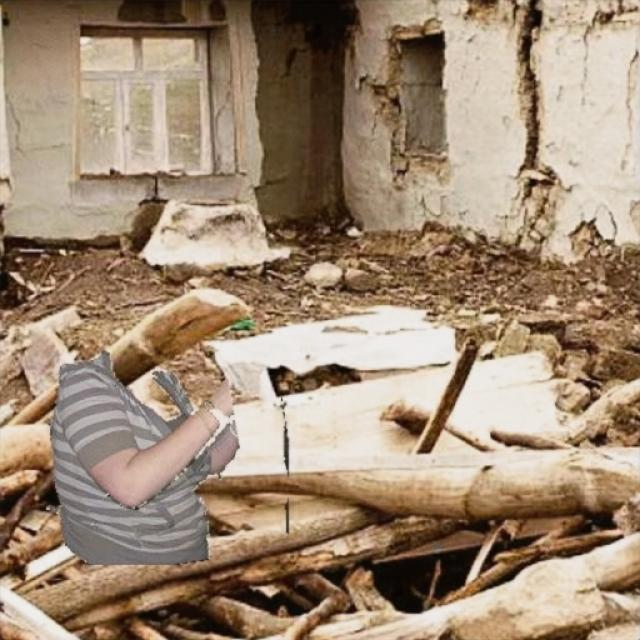Person in Rubble: (46, 350, 288, 564)
